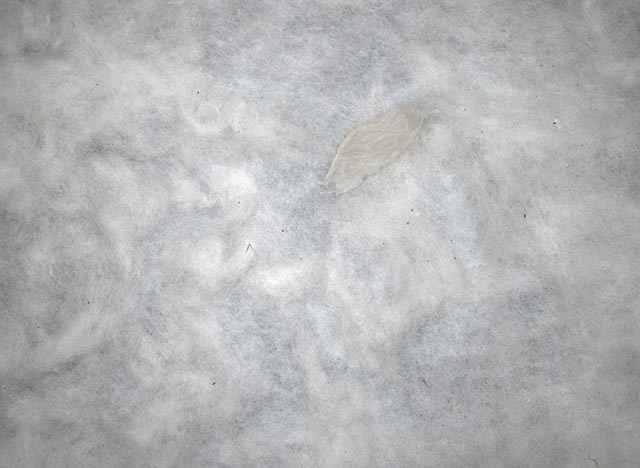plastic film: (319, 103, 427, 200)
